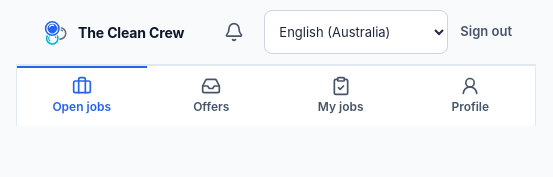
Test case: CLE-26 the cleaner app navigation › recovers the sign-out control and reports a failed sign out
The width and height of the screenshot is (553, 177).
Click the button "Sign out".
click(486, 32)  # box [456,10,516,54]
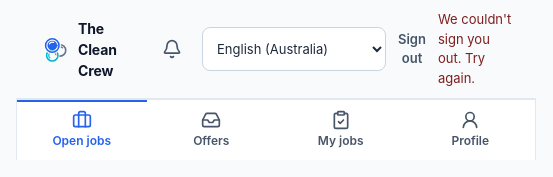
Check: the button "Sign out" is enabled, box [394,27,430,71]
Check: the message reads "We couldn't sign you out. Try again.", box [438,11,511,86]
